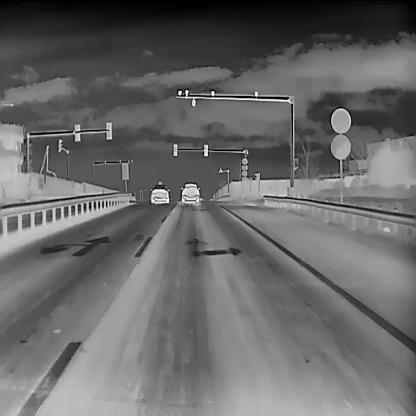car: (150, 183, 170, 204), (180, 182, 200, 202)
